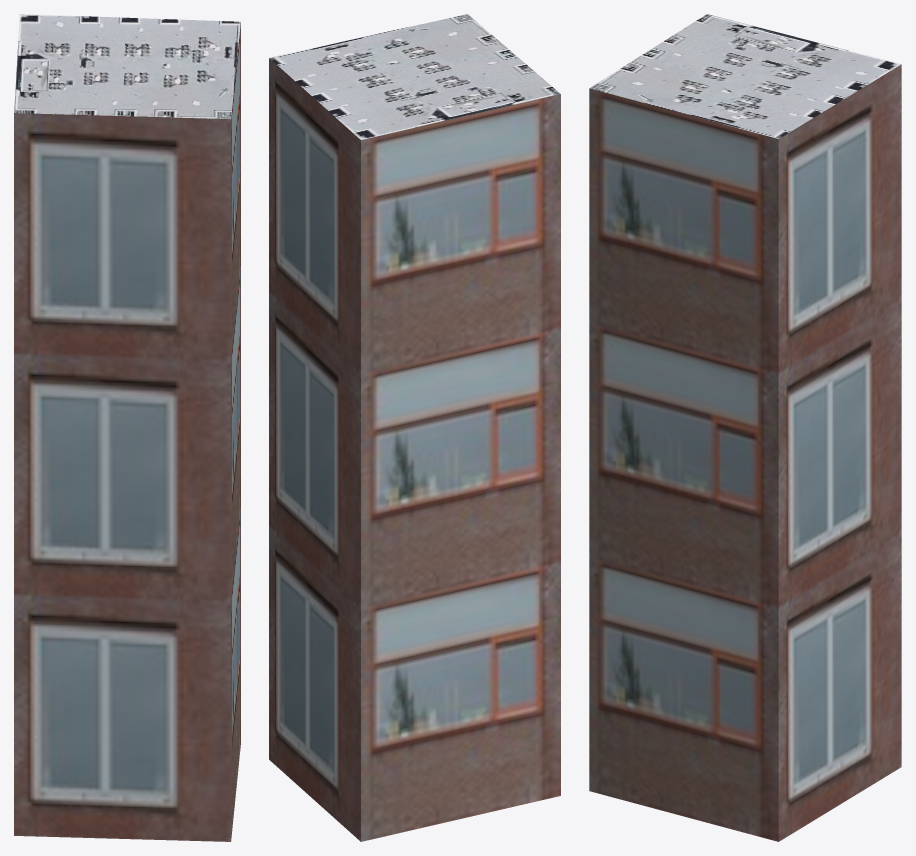
Rendered from ResTex__2315.fbx.
The picture shows the model from 3 angles, left to right: view 1: azimuth 30°, elevation 25°; view 2: azimuth 150°, elevation 25°; view 3: azimuth 270°, elevation 25°; orthographic projection. The views are drawn at different scales.
Visible parts, largest first — view 1: CityEngineMaterial_19_m, CityEngineMaterial_15_m; view 2: CityEngineMaterial_19_m, CityEngineMaterial_15_m; view 3: CityEngineMaterial_19_m, CityEngineMaterial_15_m.
Boxes of the visible parts, <box> form: CityEngineMaterial_19_m: <box>14,22,240,841</box>; CityEngineMaterial_15_m: <box>14,14,240,119</box>; CityEngineMaterial_19_m: <box>269,58,560,841</box>; CityEngineMaterial_15_m: <box>269,14,560,139</box>; CityEngineMaterial_19_m: <box>589,64,901,841</box>; CityEngineMaterial_15_m: <box>589,14,901,138</box>.
Size of the model in its own units: 3.44 by 9 by 3.62.
Materials: 2 (2 with a texture image).
